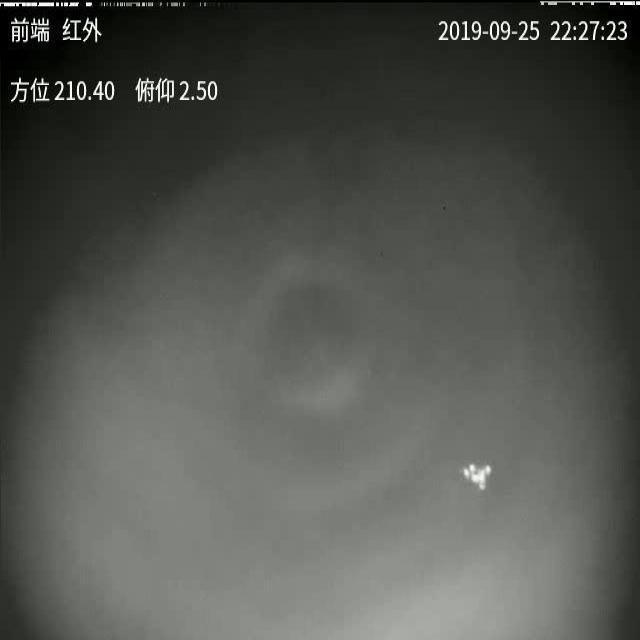drone: (465, 462, 493, 490)
